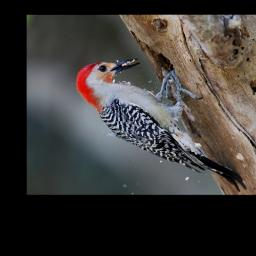Woodpecker: (77, 59, 245, 189)
